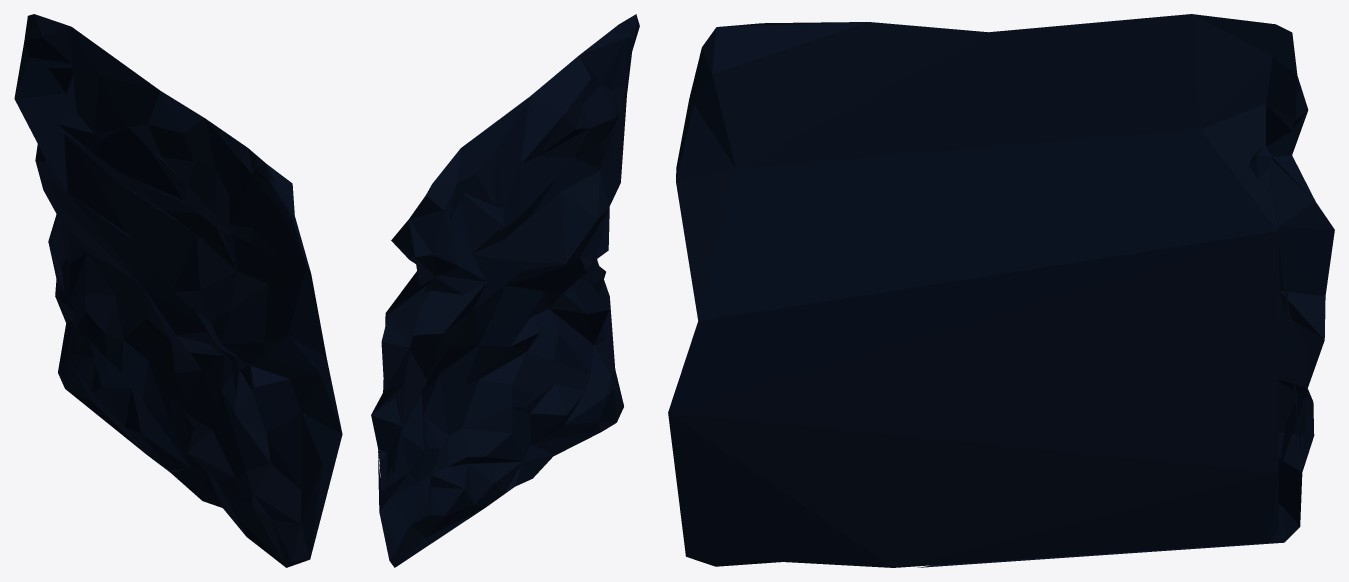
Rendered from CaveWall2.fbx.
3 renders of one model, left to right at view 1: azimuth 30°, elevation 25°; view 2: azimuth 150°, elevation 25°; view 3: azimuth 270°, elevation 25°, orthographic. The views are drawn at different scales.
Parts seen in each view (by area): view 1: CaveWall2; view 2: CaveWall2; view 3: CaveWall2.
Part boxes in pixels (x1=…): CaveWall2: x1=14, y1=14, x2=342, y2=567; CaveWall2: x1=371, y1=14, x2=639, y2=567; CaveWall2: x1=668, y1=14, x2=1334, y2=567.
Size of the model in its own units: 179 by 735 by 832.
